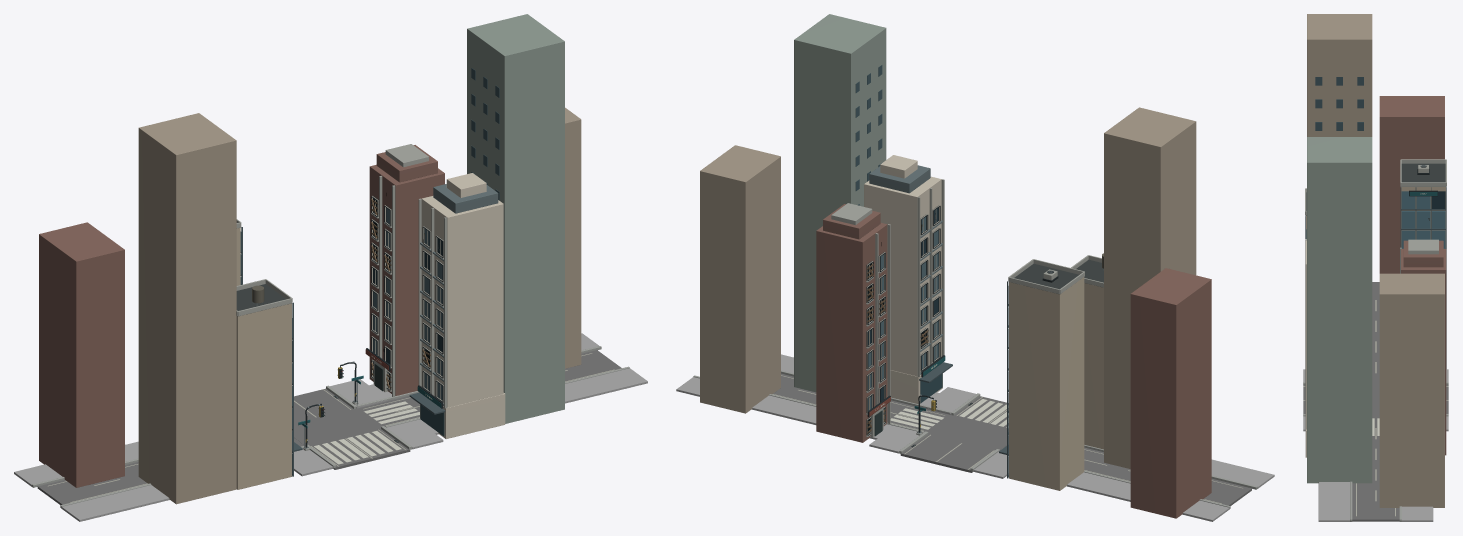
File: city_hd_05.glb
3 renders of one model, left to right at view 1: azimuth 30°, elevation 25°; view 2: azimuth 150°, elevation 25°; view 3: azimuth 270°, elevation 25°, orthographic. The views are drawn at different scales.
Visible parts, largest first — view 1: CITY_realwall_a99d8c, CITY_realwall_87685e, CITY_realwall_929f96, CITY_realwall_d0c8b8, CITY_realwall_b9ad99, CITY_PBR_asphalt, CITY_PBR_pavement, CITY_trim, CITY_recess, CITY_frame, CITY_zebra_paint, CITY_modern_panel (+3 smaller); view 2: CITY_realwall_a99d8c, CITY_realwall_87685e, CITY_realwall_929f96, CITY_realwall_b9ad99, CITY_realwall_d0c8b8, CITY_PBR_asphalt, CITY_PBR_pavement, CITY_trim, CITY_recess, CITY_frame, CITY_curb, CITY_modern_panel (+4 smaller); view 3: CITY_realwall_a99d8c, CITY_realwall_929f96, CITY_realwall_87685e, CITY_PBR_asphalt, CITY_PBR_pavement, CITY_office_glass, CITY_trim, CITY_roof, CITY_office_frame, CITY_distant_window, CITY_realwall_b9ad99, CITY_realwall_d0c8b8 (+3 smaller).
Boxes of the visible parts, x1,y1,x2,y2 form: CITY_realwall_a99d8c: (138,107,581,504); CITY_realwall_87685e: (39,145,444,487); CITY_realwall_929f96: (467,14,564,423); CITY_realwall_d0c8b8: (420,173,505,438); CITY_realwall_b9ad99: (236,227,291,489); CITY_PBR_asphalt: (37,350,621,505); CITY_PBR_pavement: (14,333,647,521); CITY_trim: (236,144,447,408); CITY_recess: (371,196,443,402); CITY_frame: (371,196,443,402); CITY_zebra_paint: (314,401,419,464); CITY_modern_panel: (420,184,498,405); CITY_realwall_a99d8c: (700,107,1196,468); CITY_realwall_87685e: (816,204,1211,518); CITY_realwall_929f96: (794,14,886,392); CITY_realwall_b9ad99: (1009,277,1103,490); CITY_realwall_d0c8b8: (864,155,942,404); CITY_PBR_asphalt: (773,373,1251,505); CITY_PBR_pavement: (676,354,1274,521); CITY_trim: (831,179,1103,437); CITY_recess: (866,205,940,435); CITY_frame: (866,205,940,435); CITY_curb: (693,370,1257,508); CITY_modern_panel: (869,165,942,374); CITY_realwall_a99d8c: (1307,14,1444,507); CITY_realwall_929f96: (1307,137,1372,483); CITY_realwall_87685e: (1379,96,1446,455); CITY_PBR_asphalt: (1303,282,1448,521); CITY_PBR_pavement: (1303,369,1448,521); CITY_office_glass: (1306,191,1445,248); CITY_trim: (1305,159,1446,405); CITY_roof: (1306,163,1445,215); CITY_office_frame: (1305,187,1446,368); CITY_distant_window: (1315,77,1363,130); CITY_realwall_b9ad99: (1306,187,1445,247); CITY_realwall_d0c8b8: (1305,240,1306,457).
Size of the model in its own units: 63 by 39.26 by 16.
